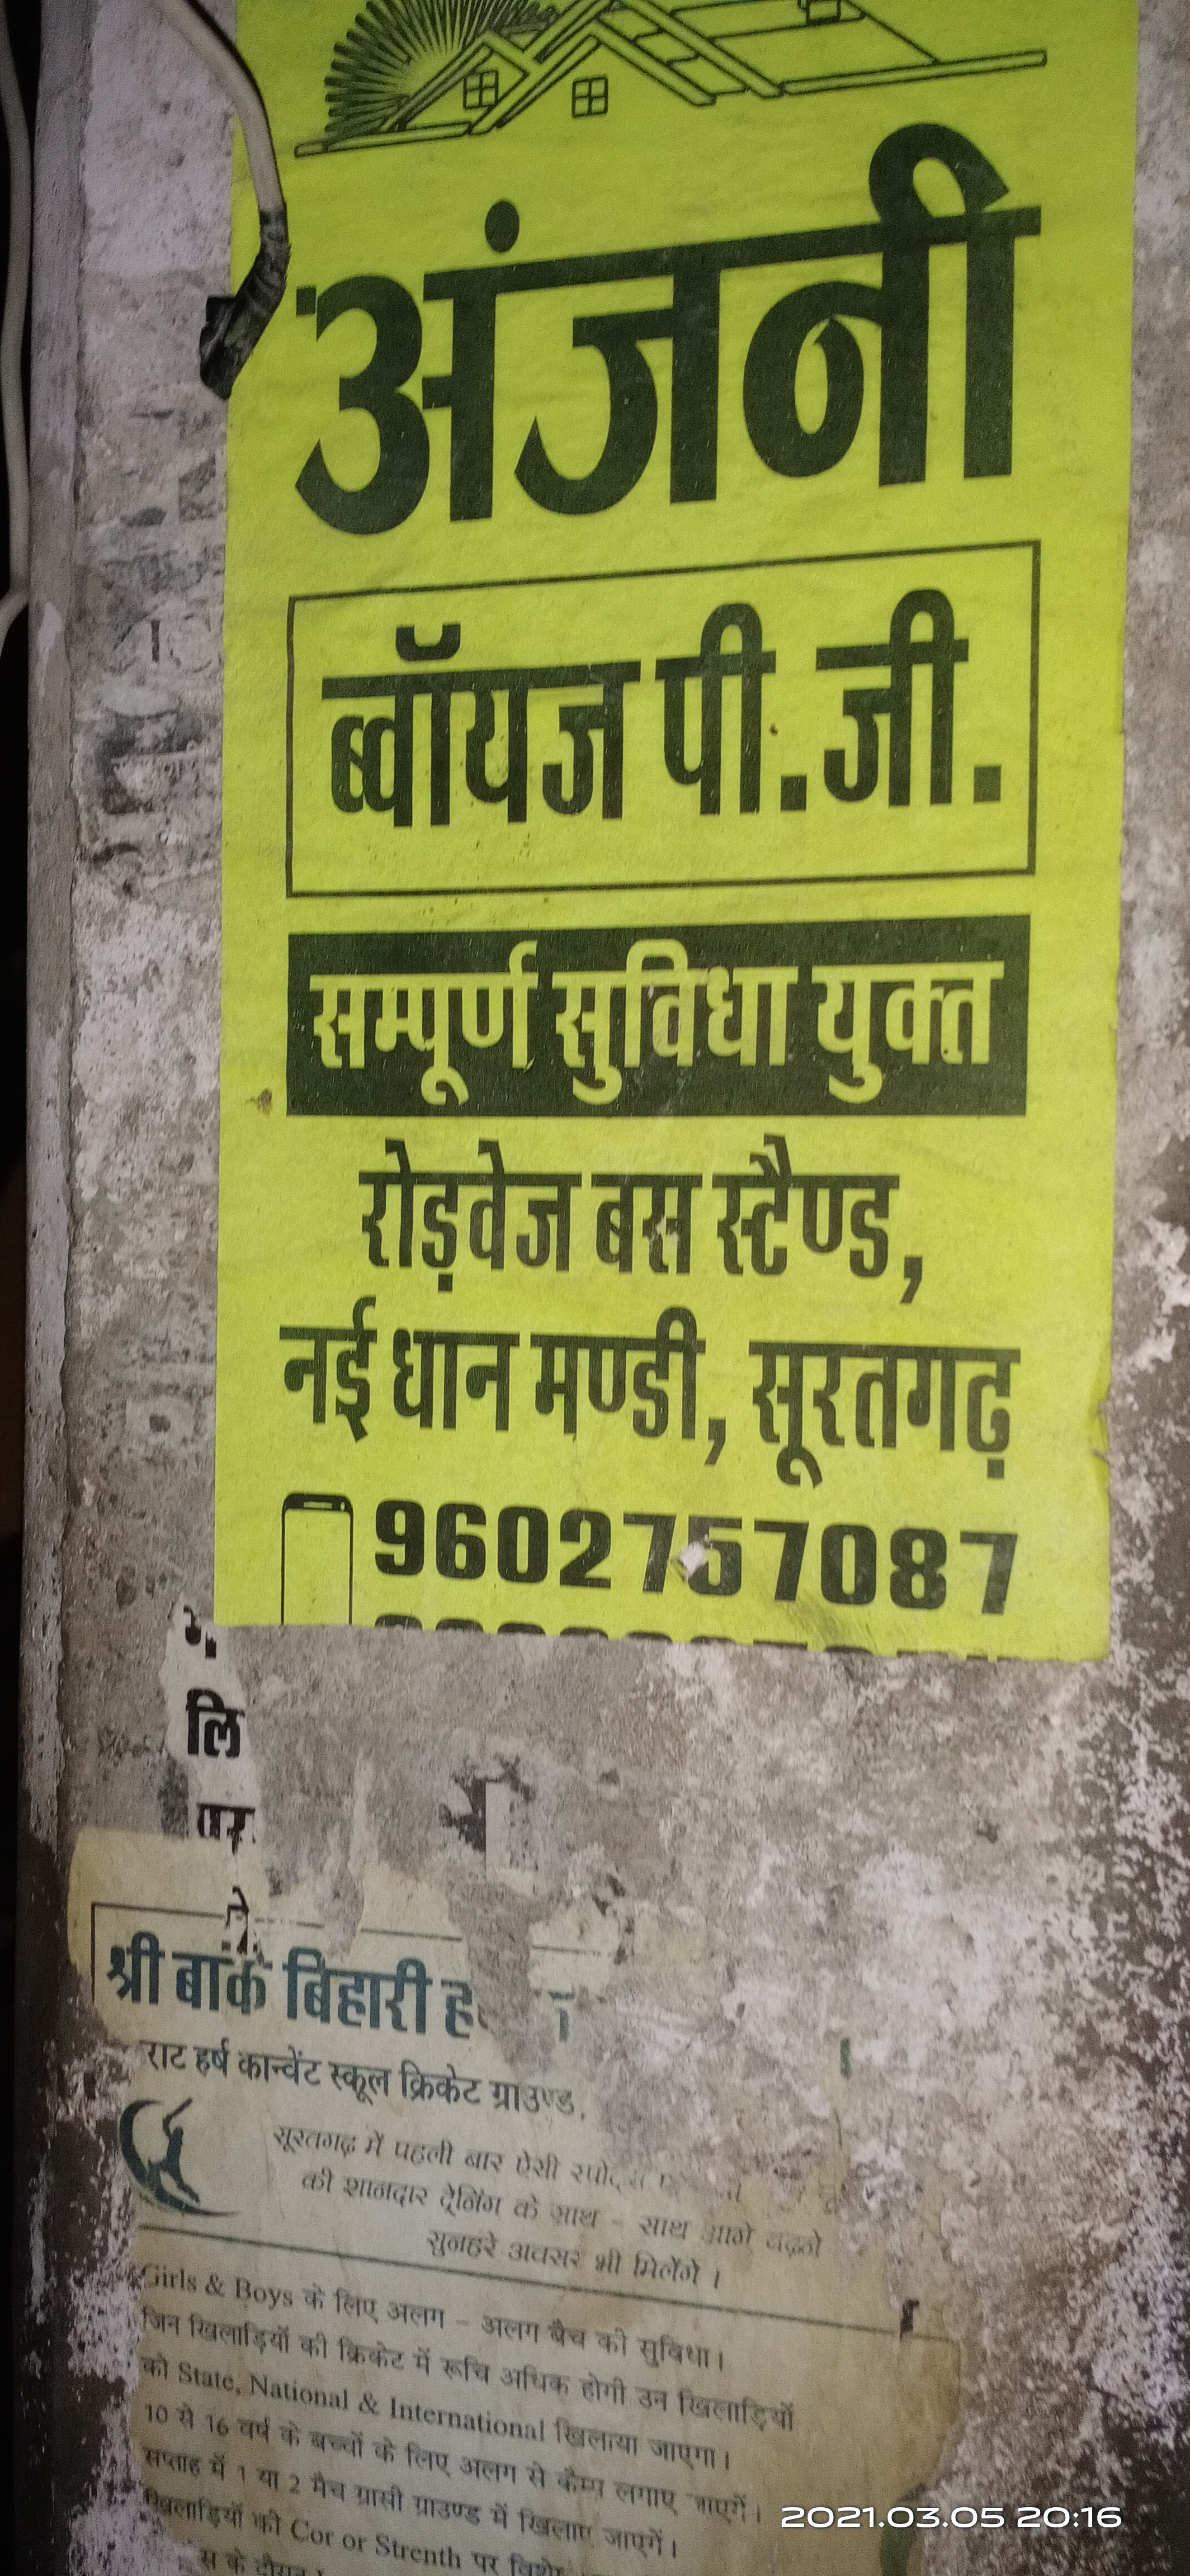text: (197, 8, 1113, 1653)
